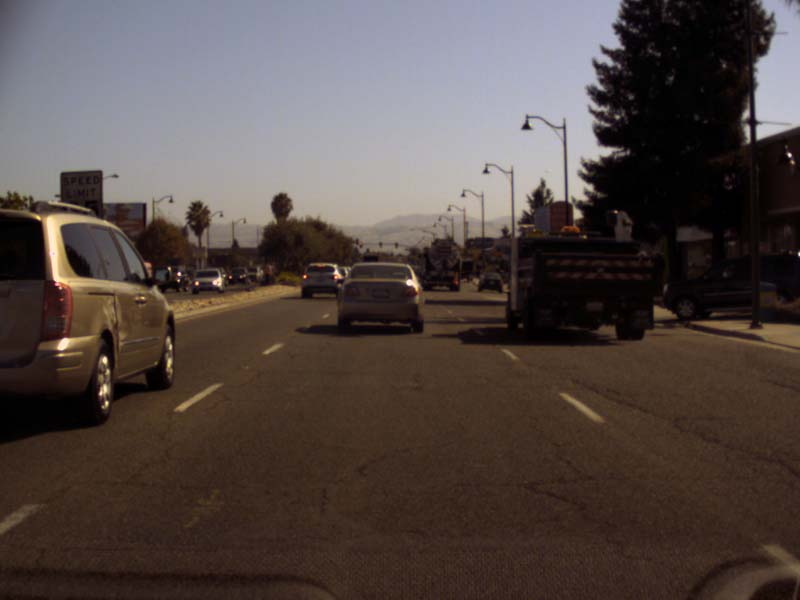Red: (359, 242, 362, 246)
